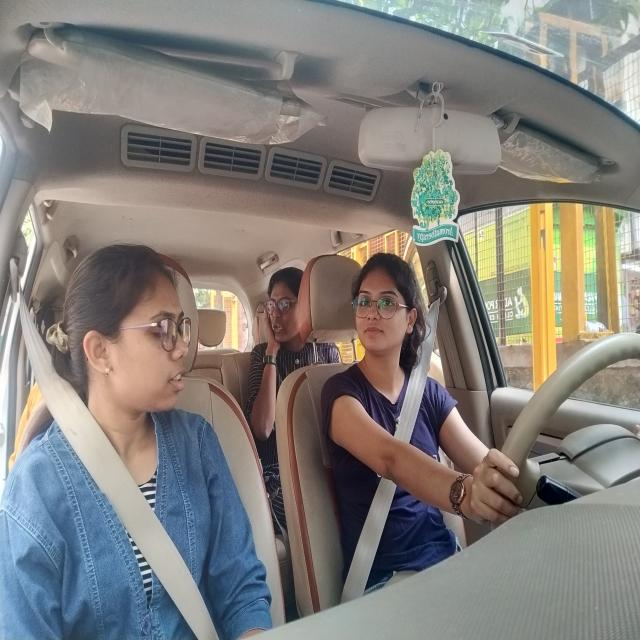person: (47, 231, 209, 450), (350, 246, 430, 383), (252, 243, 322, 367)
